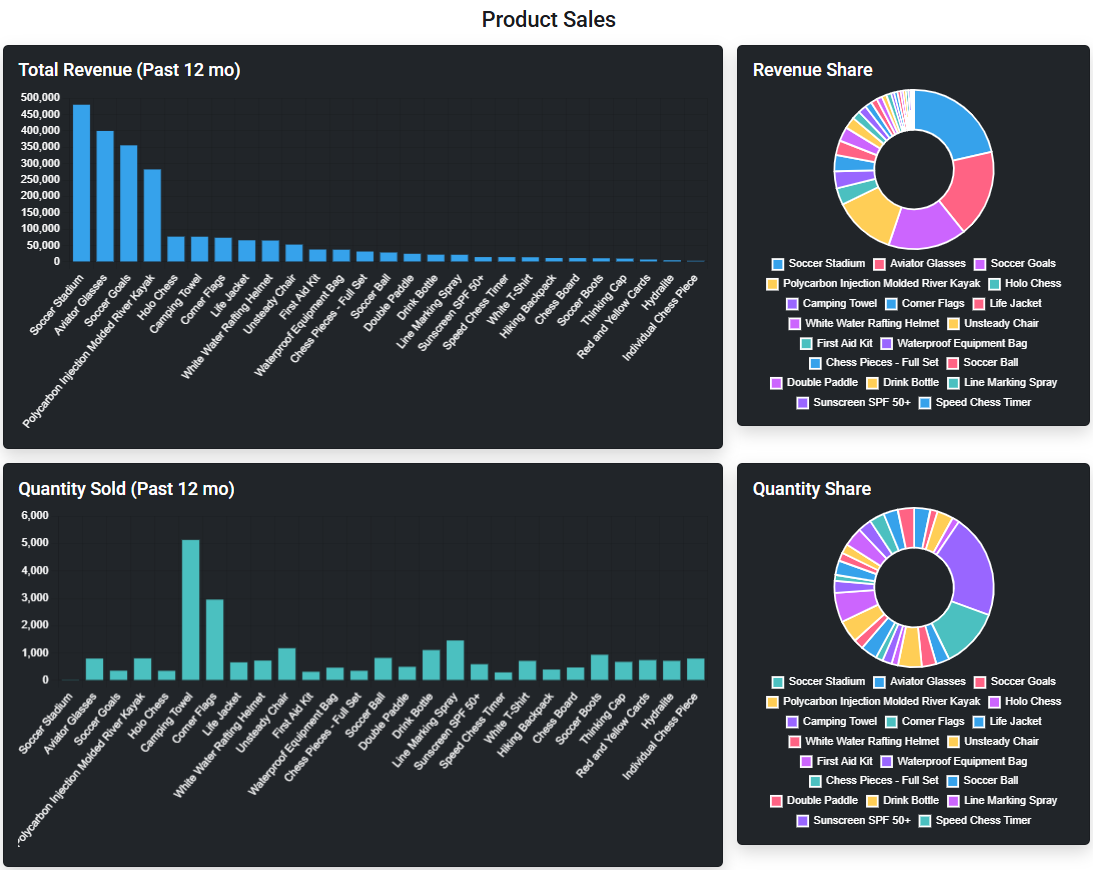

The dashboard page shown, as its layout file describes it:
{"tool":"powerbi","page":{"name":"Page 1","canvas":[1920,1080],"ordinal":0},"visuals":[{"type":"clusteredColumnChart","fields":{"Category":["InStockProducts.Title"],"Y":["_Measures.Quantity Sold (Past 12 mo)"]},"box":[7.1,537.1,1337.1,518.6],"z":0},{"type":"clusteredColumnChart","fields":{"Category":["InStockProducts.Title"],"Y":["_Measures.Product Profit (Past 12 mo)"]},"box":[7.1,10,1337.1,520],"z":1000},{"type":"pieChart","fields":{"Category":["InStockProducts.Title"],"Y":["_Measures.Quantity Sold (Past 12 mo)"]},"box":[1355,538.3,550.4,517],"z":2000},{"type":"pieChart","fields":{"Category":["InStockProducts.Title"],"Y":["_Measures.Total Revenue (Past 12 mo)"]},"box":[1355,10,549.9,519.6],"z":3000}]}

Visuals, with their boxes on the page's 1920x1080 design canvas (x1, y1, x2, y2). These are canvas units, not pixel positions in the 1093x870 screenshot, which may show the page scaled, cropped or inside an application window:
clusteredColumnChart - InStockProducts.Title x _Measures.Quantity Sold (Past 12 mo): (7, 537, 1344, 1056)
clusteredColumnChart - InStockProducts.Title x _Measures.Product Profit (Past 12 mo): (7, 10, 1344, 530)
pieChart - InStockProducts.Title x _Measures.Quantity Sold (Past 12 mo): (1355, 538, 1905, 1055)
pieChart - InStockProducts.Title x _Measures.Total Revenue (Past 12 mo): (1355, 10, 1905, 530)
